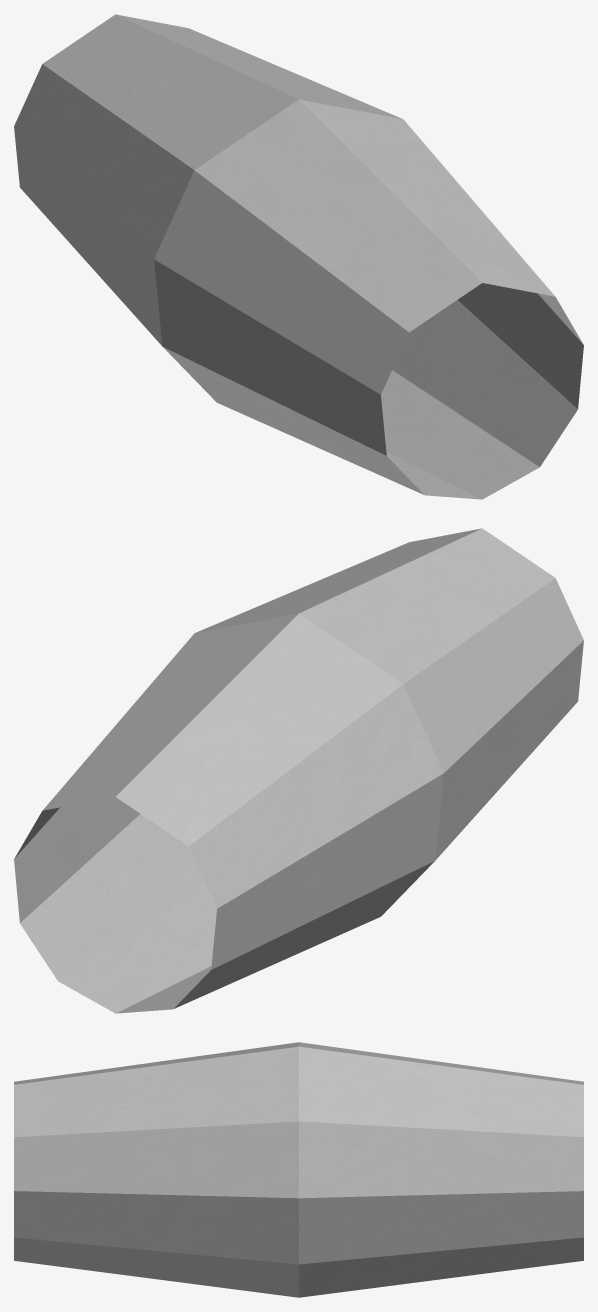
The model's file is hook.fbx.
3 renders of one model, top to bottom at view 1: azimuth 30°, elevation 25°; view 2: azimuth 150°, elevation 25°; view 3: azimuth 270°, elevation 25°, orthographic. The views are drawn at different scales.
Parts seen in each view (by area): view 1: Engine.004; view 2: Engine.004; view 3: Engine.004.
Boxes of the visible parts, left/top/right/bottom form: Engine.004: left=14, top=14, right=583, bottom=499; Engine.004: left=14, top=528, right=583, bottom=1013; Engine.004: left=14, top=1042, right=583, bottom=1297.
Size of the model in its own units: 3.19 by 3.25 by 6.99.
Materials: 1 (1 with a texture image).
